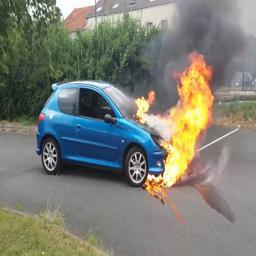fire: (135, 52, 216, 190)
